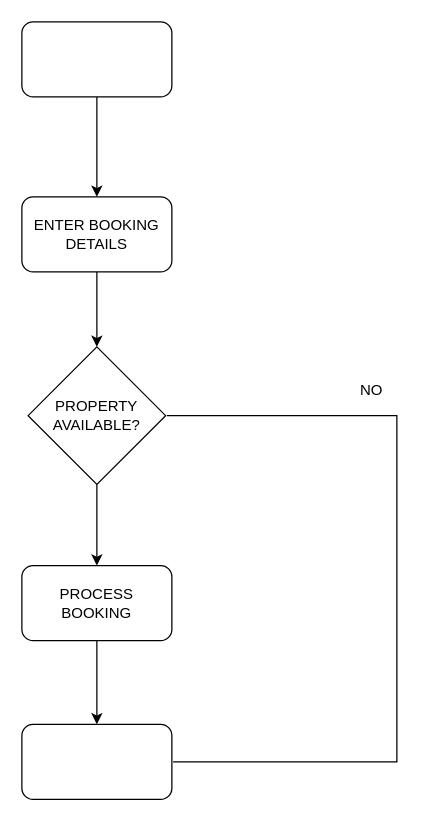
Some shapes in this 431 by 821 pixel diagram are drawn without their labels. The centre of each missing label's shape, as x and y in pixels:
"BOOKING CONFIMED" belongs at pixel 96 761.
"START" belongs at pixel 96 59.
